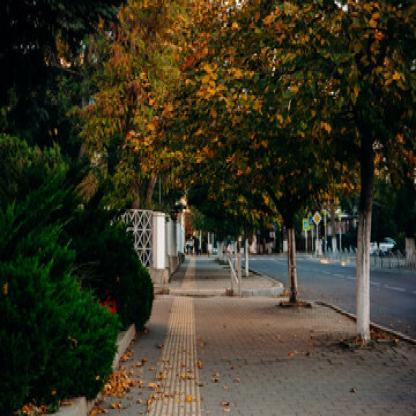podotacti: (141, 251, 228, 416)
